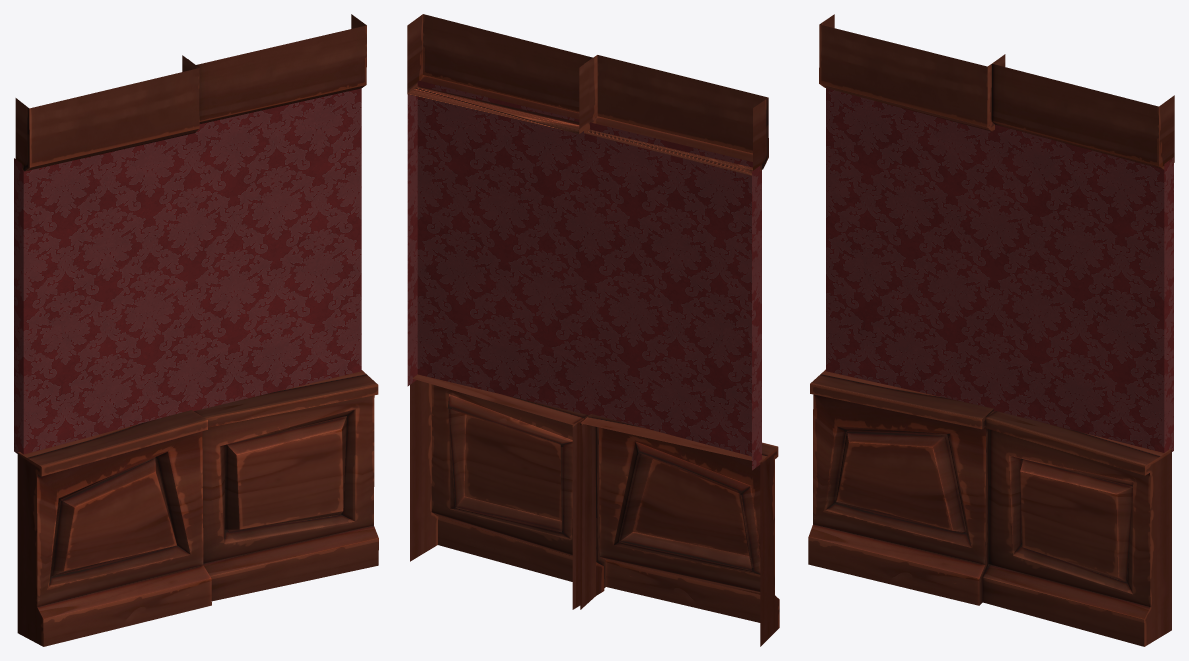
The model's file is Wall_02.FBX.
The picture shows the model from 3 angles, left to right: view 1: azimuth 30°, elevation 25°; view 2: azimuth 150°, elevation 25°; view 3: azimuth 330°, elevation 25°; orthographic projection.
Parts seen in each view (by area): view 1: Plane003; view 2: Plane003; view 3: Plane003.
Boxes of the visible parts, box(x1,y1,x2,y2) form: Plane003: box(14, 14, 378, 646); Plane003: box(407, 14, 779, 646); Plane003: box(808, 14, 1174, 646).
Bounding box in the file's own units: 203 × 301 × 33.47.
